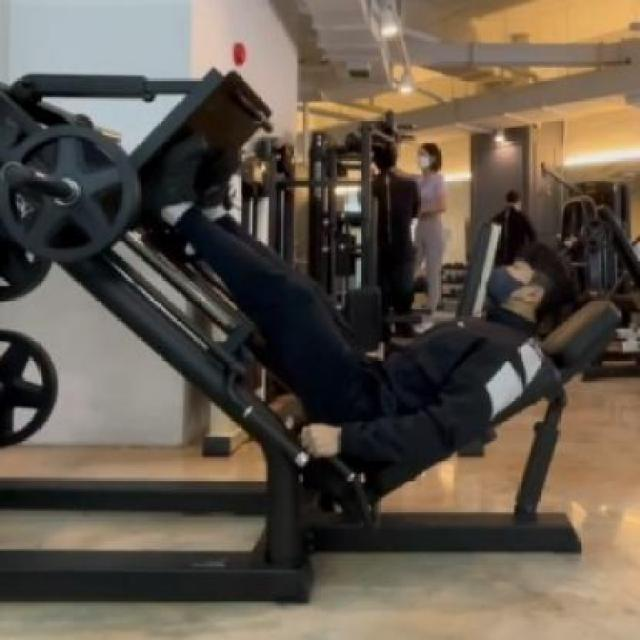leg press: (0, 44, 631, 640)
